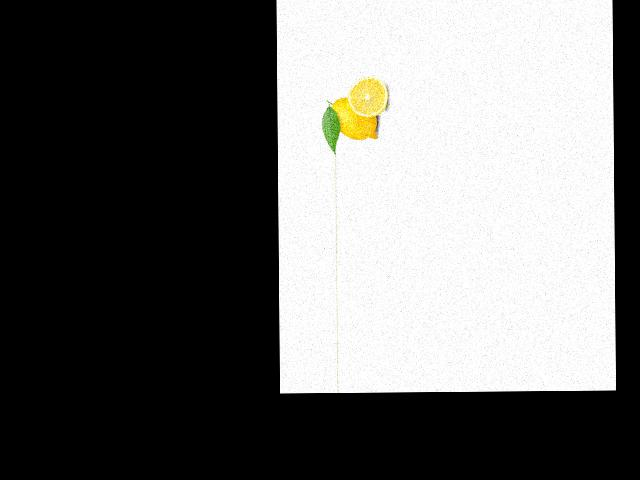lemon: (324, 93, 381, 146)
